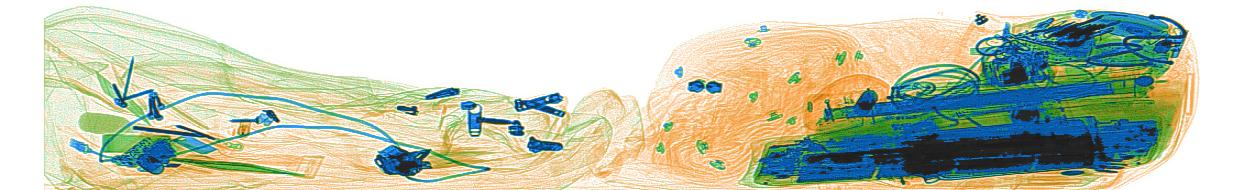battery: (851, 89, 878, 117)
knife: (169, 131, 217, 154)
